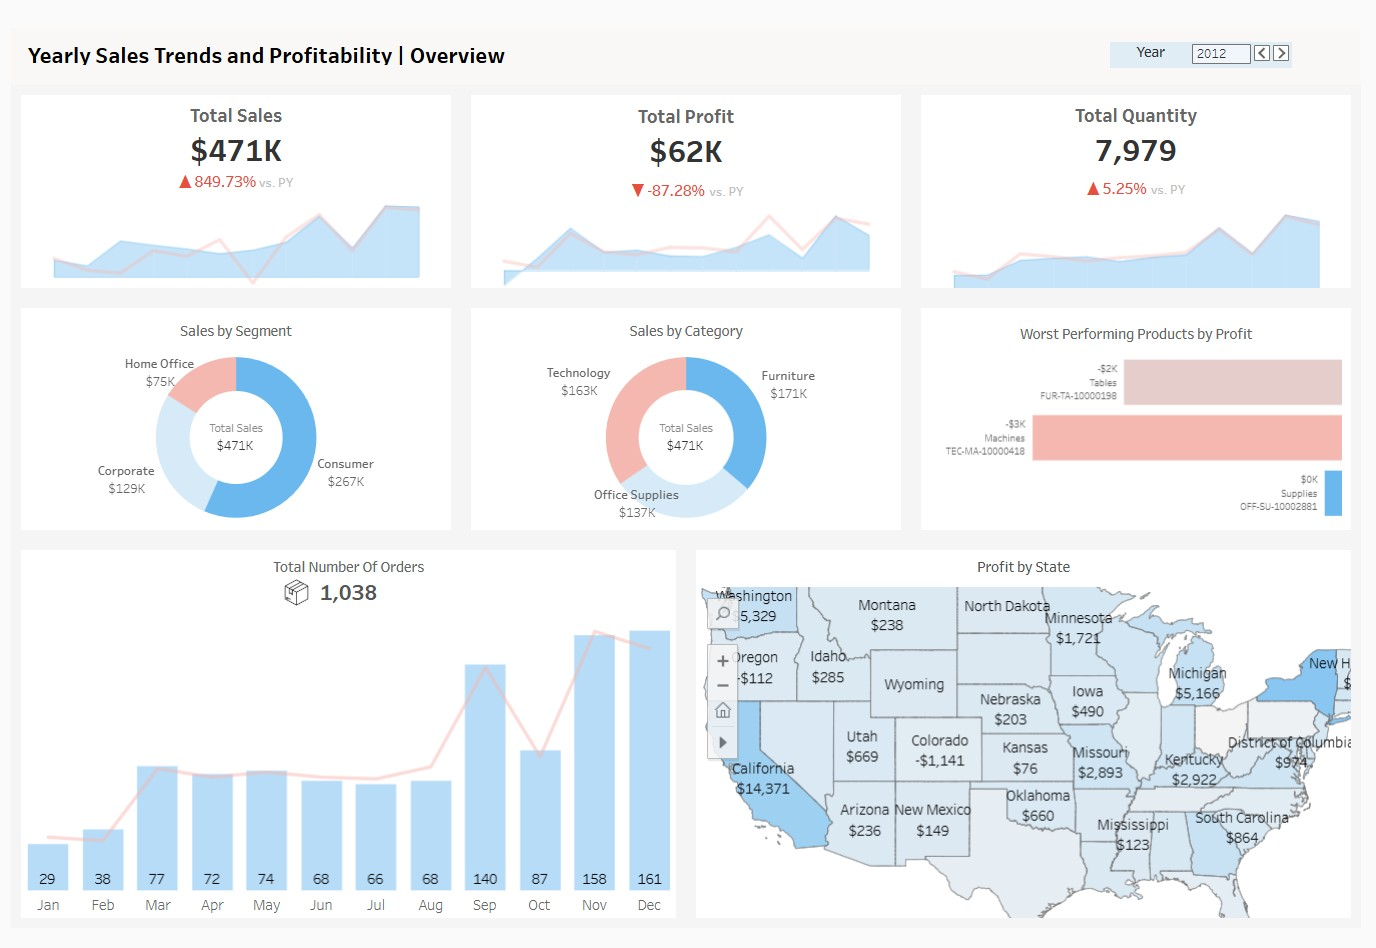

The dashboard page shown, as its layout file describes it:
{"tool":"tableau","page":{"name":"superstoreDashboard ","canvas":[1200,800],"ordinal":0},"visuals":[{"type":"text","box":[0,0,1200,51]},{"type":"parameter","param":"[Parameters].[Parameter 1]","box":[977,15,162,23]},{"type":"worksheet","title":"KPI sales","mark":"Area","rows":["Calculation_1014717314657075216","Calculation_1014717314657824785"],"cols":["Order Date"],"box":[0,51,400,189]},{"type":"worksheet","title":"KPI profit","mark":"Area","rows":["CY Sales (copy)_1014717314991042587","PY Sales (copy)_1014717314991308828"],"cols":["Order Date"],"box":[400,51,400,189]},{"type":"worksheet","title":"KPI Quantity","mark":"Area","rows":["CY Sales (copy)_1014717315014848546","PY Sales (copy)_1014717315015893027"],"cols":["Order Date"],"box":[800,51,400,189]},{"type":"worksheet","title":"sales by segment2","mark":"Pie","cols":["Calculation_1014717314451075085","Calculation_1014717314451075085"],"box":[0,240,400,214.7]},{"type":"worksheet","title":"sales by category","mark":"Pie","cols":["Calculation_1014717314451075085","Calculation_1014717314451075085"],"box":[400,240,400,214.7]},{"type":"worksheet","title":"negative products (2)","mark":"Automatic","rows":["Product Name"],"cols":["CY Sales (copy)_1014717314991042587"],"box":[800,240,400,214.7]},{"type":"worksheet","title":"test (2)","mark":"Automatic","rows":["Calculation_1014717315339743278","Calculation_1014717315339956271"],"cols":["Order Date"],"box":[0,454.7,600,345.3]},{"type":"worksheet","title":"top 5 states","mark":"Automatic","box":[600,454.7,600,345.3]},{"type":"image","param":"D:/Data Analytics/Tableau/Icons/icons8-logistics-100.png","box":[238,489,37,36]}]}

Visuals, with their boxes on the page's 1200x800 design canvas (x1, y1, x2, y2). These are canvas units, not pixel positions in the 1376x948 screenshot, which may show the page scaled, cropped or inside an application window:
text: (0, 0, 1200, 51)
parameter: (977, 15, 1139, 38)
"KPI sales" worksheet (Area marks): (0, 51, 400, 240)
"KPI profit" worksheet (Area marks): (400, 51, 800, 240)
"KPI Quantity" worksheet (Area marks): (800, 51, 1200, 240)
"sales by segment2" worksheet (Pie marks): (0, 240, 400, 455)
"sales by category" worksheet (Pie marks): (400, 240, 800, 455)
"negative products (2)" worksheet: (800, 240, 1200, 455)
"test (2)" worksheet: (0, 455, 600, 800)
"top 5 states" worksheet: (600, 455, 1200, 800)
image: (238, 489, 275, 525)
